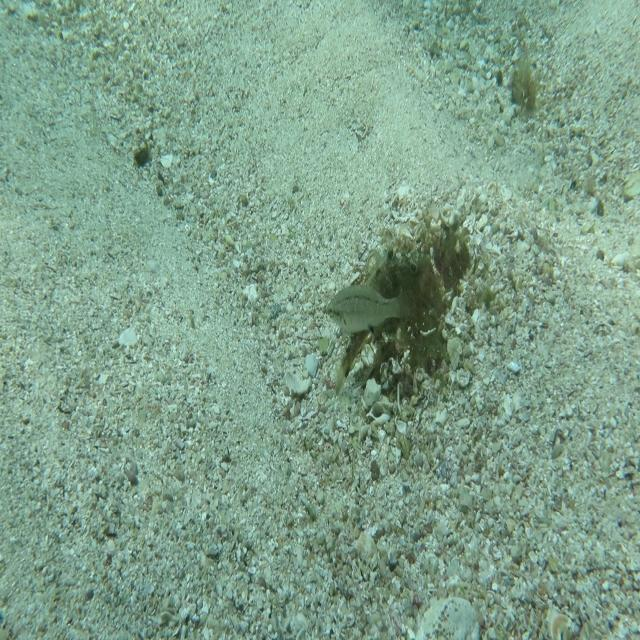BK_SW: (334, 235, 432, 401)
female: (322, 278, 418, 338)
nest: (352, 211, 472, 410)
